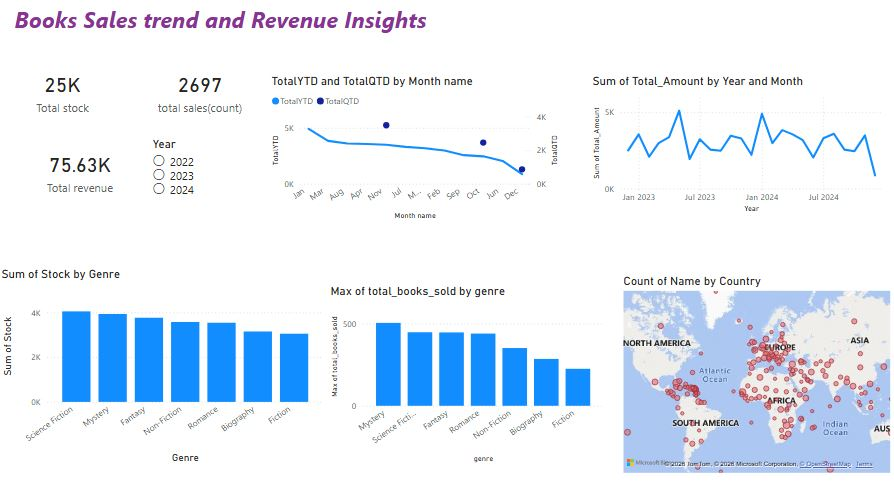

The page's visual inventory and layout, read from the dashboard file:
{"tool":"powerbi","page":{"name":"Page 1","canvas":[1280,720],"ordinal":0},"visuals":[{"type":"card","fields":{"Values":["Measures .Total books stock"]},"box":[0,88.6,184.3,105.7],"z":0},{"type":"card","fields":{"Values":["Measures .total sales"]},"box":[205.7,84.3,165.7,112.9],"z":1000},{"type":"card","fields":{"Values":["Measures .Total revenue"]},"box":[18.6,191.4,197.1,128.6],"z":2000},{"type":"lineChart","fields":{"Y":["Measures .TotalYTD"],"Category":["Orders.Month name"],"Y2":["Measures .TotalQTD"]},"box":[385.7,117.1,420,212.9],"z":3000},{"type":"map","fields":{"Category":["Customers.City","Customers.Country"],"Size":["Count(Customers.Name)"]},"box":[888.6,402.9,391.4,288.6],"z":4000},{"type":"columnChart","fields":{"Y":["Max(total books sold(genre) 12.total_books_sold)"],"Category":["total books sold(genre) 12.genre"]},"box":[470,417.1,400,260],"z":5000},{"type":"columnChart","fields":{"Category":["Books.Genre"],"Y":["Sum(Books.Stock)"]},"box":[0,392.9,470,285.7],"z":6000},{"type":"listSlicer","fields":{"Values":["Orders.Year"]},"box":[215.7,207.1,170,195.7],"z":7000},{"type":"textbox","box":[18.6,11.4,672.9,77.1],"z":8000},{"type":"lineChart","fields":{"Y":["Sum(Orders.Total_Amount)"],"Category":["Orders.Order_Date.Variation.Date Hierarchy.Year","Orders.Order_Date.Variation.Date Hierarchy.Month"]},"box":[844.3,117.1,435.7,202.9],"z":9000}]}

Visuals, with their boxes on the page's 1280x720 design canvas (x1, y1, x2, y2). These are canvas units, not pixel positions in the 894x483 screenshot, which may show the page scaled, cropped or inside an application window:
card - Measures .Total books stock: BBox(0, 89, 184, 194)
card - Measures .total sales: BBox(206, 84, 371, 197)
card - Measures .Total revenue: BBox(19, 191, 216, 320)
lineChart - Measures .TotalYTD x Orders.Month name: BBox(386, 117, 806, 330)
map - Customers.City x Customers.Country: BBox(889, 403, 1280, 692)
columnChart - Max(total books sold(genre) 12.total_books_sold) x total books sold(genre) 12.genre: BBox(470, 417, 870, 677)
columnChart - Books.Genre x Sum(Books.Stock): BBox(0, 393, 470, 679)
listSlicer - Orders.Year: BBox(216, 207, 386, 403)
textbox: BBox(19, 11, 692, 88)
lineChart - Sum(Orders.Total_Amount) x Orders.Order_Date.Variation.Date Hierarchy.Year: BBox(844, 117, 1280, 320)
